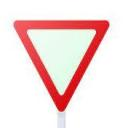preferencia: (12, 16, 113, 114)
